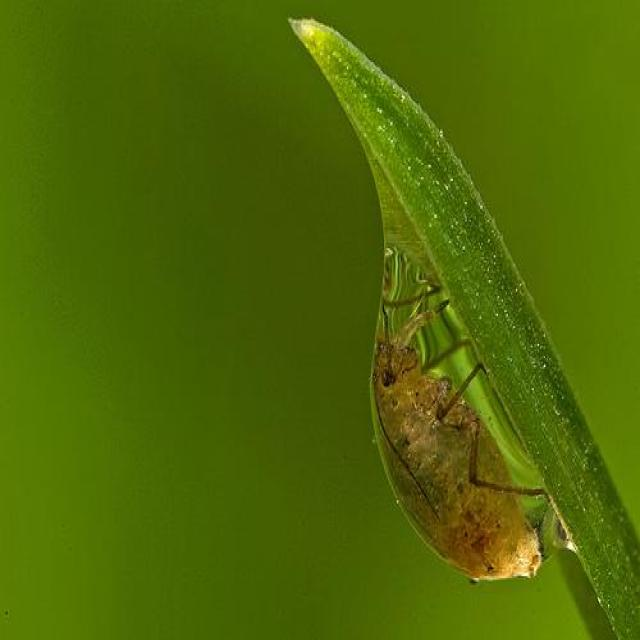Aphids: (344, 245, 570, 592)
